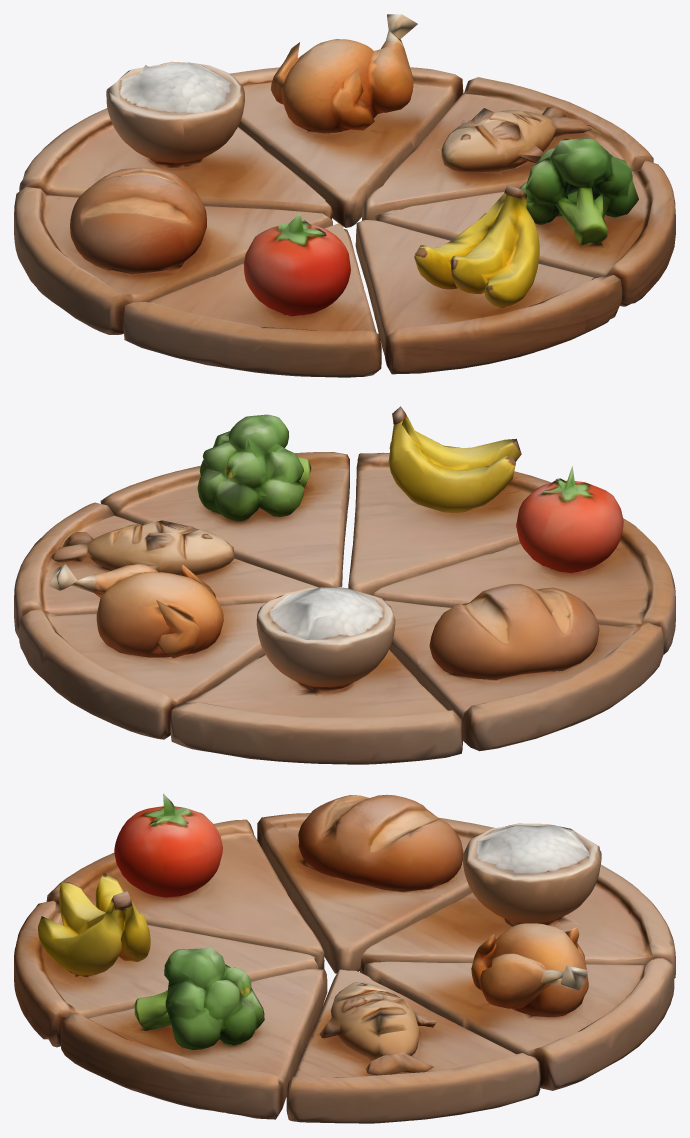
The model's file is week-wheel-v1.glb.
3 views of the same model, one above another, from view 1: azimuth 30°, elevation 25°; view 2: azimuth 150°, elevation 25°; view 3: azimuth 270°, elevation 25° (orthographic).
Parts seen in each view (by area): view 1: day6, day1, day0, day3, day2, day5, day4; view 2: day2, day1, day3, day5, day6, day0, day4; view 3: day5, day3, day4, day1, day2, day0, day6.
Part boxes in pixels (bbox=[...]): day6: bbox=[355, 185, 622, 374]; day1: bbox=[14, 167, 332, 334]; day0: bbox=[123, 213, 381, 377]; day3: bbox=[229, 14, 463, 227]; day2: bbox=[19, 61, 332, 219]; day5: bbox=[375, 137, 675, 306]; day4: bbox=[362, 77, 653, 220]; day2: bbox=[170, 587, 462, 764]; day1: bbox=[385, 584, 663, 751]; day3: bbox=[19, 564, 266, 739]; day5: bbox=[100, 414, 349, 587]; day6: bbox=[348, 406, 550, 595]; day0: bbox=[372, 466, 675, 654]; day4: bbox=[14, 502, 318, 638]; day5: bbox=[60, 947, 327, 1119]; day3: bbox=[363, 923, 674, 1090]; day4: bbox=[286, 969, 540, 1123]; day1: bbox=[257, 794, 494, 973]; day2: bbox=[360, 823, 675, 978]; day0: bbox=[46, 793, 324, 969]; day6: bbox=[14, 873, 317, 1047].
Bounding box in the file's own units: 0.9984 × 0.2128 × 1.
1 material, 1 textured.
